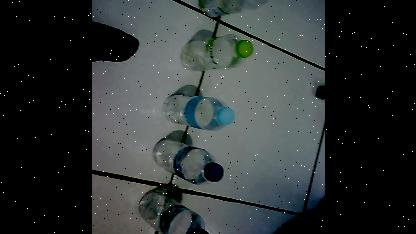Plastic Bottle: (165, 26, 265, 78), (144, 86, 238, 134), (138, 138, 224, 188), (116, 194, 214, 234), (189, 0, 292, 28)
